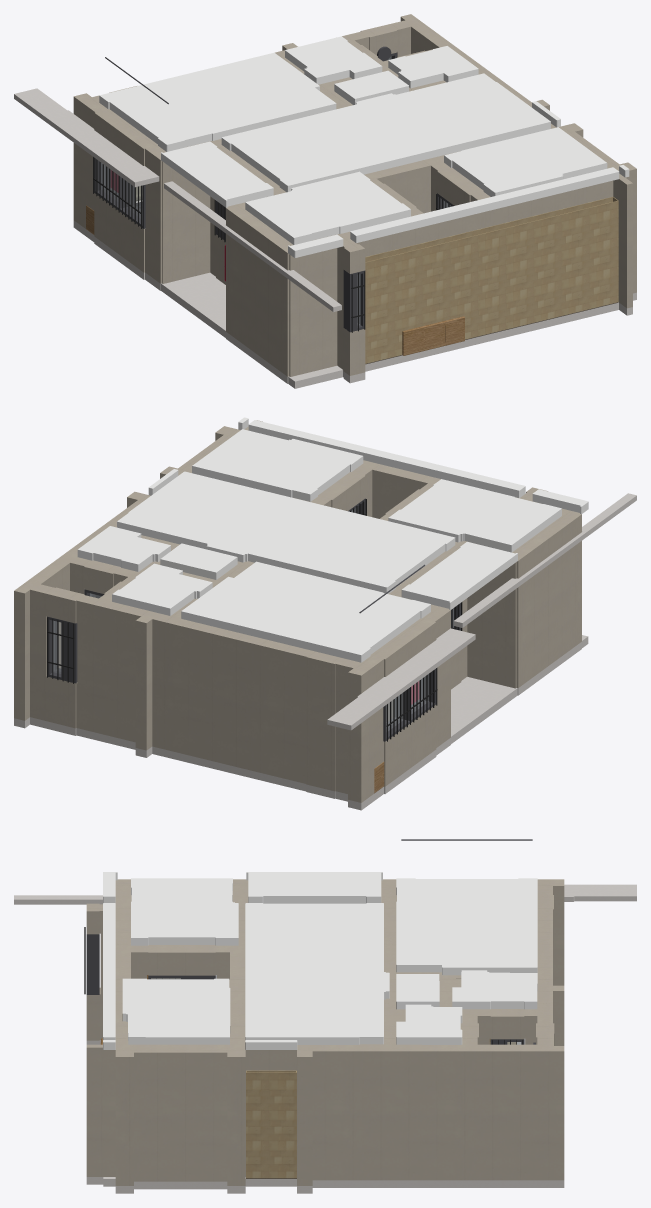
The model's file is kk_unit_B.glb.
The picture shows the model from 3 angles, top to bottom: view 1: azimuth 30°, elevation 25°; view 2: azimuth 150°, elevation 25°; view 3: azimuth 270°, elevation 25°; orthographic projection. The views are drawn at different scales.
Parts seen in each view (by area): view 1: Ceiling, ArchWalls, Dado_B1_toilet, Slab, Chajja, WindowFrames, Railings, tv_unit_6_cab, Glass; view 2: ArchWalls, Ceiling, Slab, Chajja, WindowFrames, Railings, Glass; view 3: ArchWalls, Ceiling, Dado_B1_toilet, Slab, Chajja, WindowFrames.
Boxes of the visible parts, x1,y1,x2,y2 form: Ceiling: (99,36,629,257); ArchWalls: (73,14,636,376); Dado_B1_toilet: (365,196,618,363); Slab: (73,220,636,388); Chajja: (14,88,341,311); WindowFrames: (94,52,453,332); Railings: (93,157,452,332); tv_unit_6_cab: (402,316,464,355); Glass: (101,56,450,324); ArchWalls: (14,420,581,802); Ceiling: (77,417,588,662); Slab: (14,635,588,810); Chajja: (327,493,636,730); WindowFrames: (47,498,460,741); Railings: (47,499,462,741); Glass: (53,508,453,730); ArchWalls: (86,879,564,1185); Ceiling: (103,872,537,1049); Dado_B1_toilet: (246,1038,516,1178); Slab: (86,1040,564,1193); Chajja: (14,884,636,904); WindowFrames: (86,934,524,1044).
Size of the model in its own units: 8.05 by 3.66 by 11.15.
Materials: 36 (17 with a texture image).
